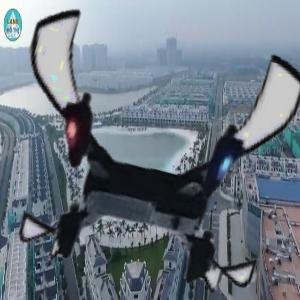drone: (6, 7, 290, 291)
